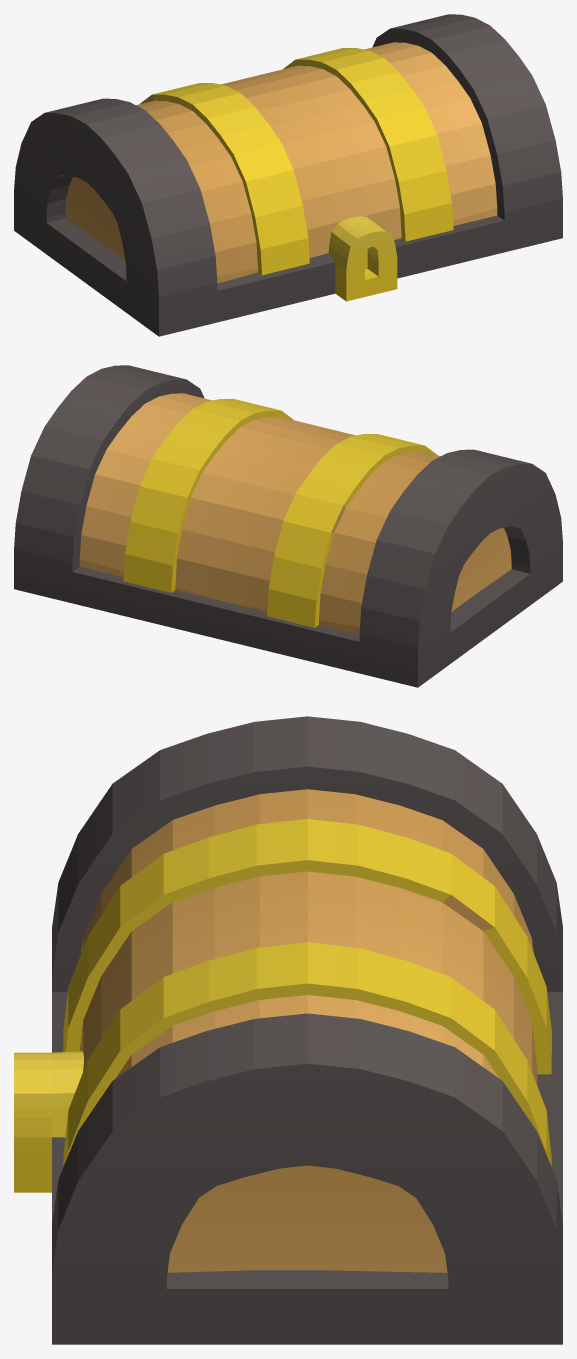
The model's file is Safe Chest 3.top.fbx.
3 renders of one model, top to bottom at view 1: azimuth 30°, elevation 25°; view 2: azimuth 150°, elevation 25°; view 3: azimuth 270°, elevation 25°, orthographic. The views are drawn at different scales.
Parts seen in each view (by area): view 1: Safe Chest 3.top; view 2: Safe Chest 3.top; view 3: Safe Chest 3.top.
Boxes of the visible parts, bbox=[...] form: Safe Chest 3.top: bbox=[14, 14, 562, 336]; Safe Chest 3.top: bbox=[14, 365, 562, 687]; Safe Chest 3.top: bbox=[14, 716, 562, 1344].
Size of the model in its own units: 103 by 38.67 by 68.47.
